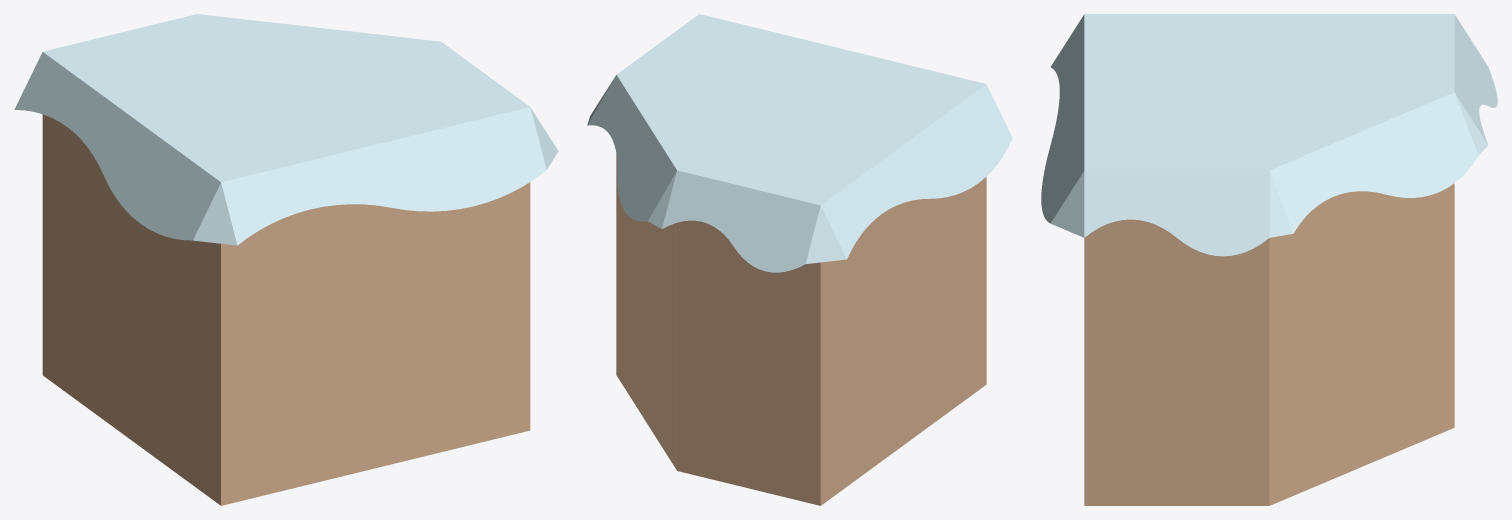
The model's file is blockSnowCornerSmall.glb.
3 renders of one model, left to right at view 1: azimuth 30°, elevation 25°; view 2: azimuth 150°, elevation 25°; view 3: azimuth 270°, elevation 25°, orthographic. The views are drawn at different scales.
Parts seen in each view (by area): view 1: blockSnowCornerSmall(Clone); view 2: blockSnowCornerSmall(Clone); view 3: blockSnowCornerSmall(Clone).
Boxes of the visible parts, left/top/right/bottom form: blockSnowCornerSmall(Clone): left=14, top=14, right=558, bottom=505; blockSnowCornerSmall(Clone): left=587, top=14, right=1012, bottom=505; blockSnowCornerSmall(Clone): left=1041, top=14, right=1497, bottom=505.
Bounding box in the file's own units: 1.23 × 1 × 1.23.
